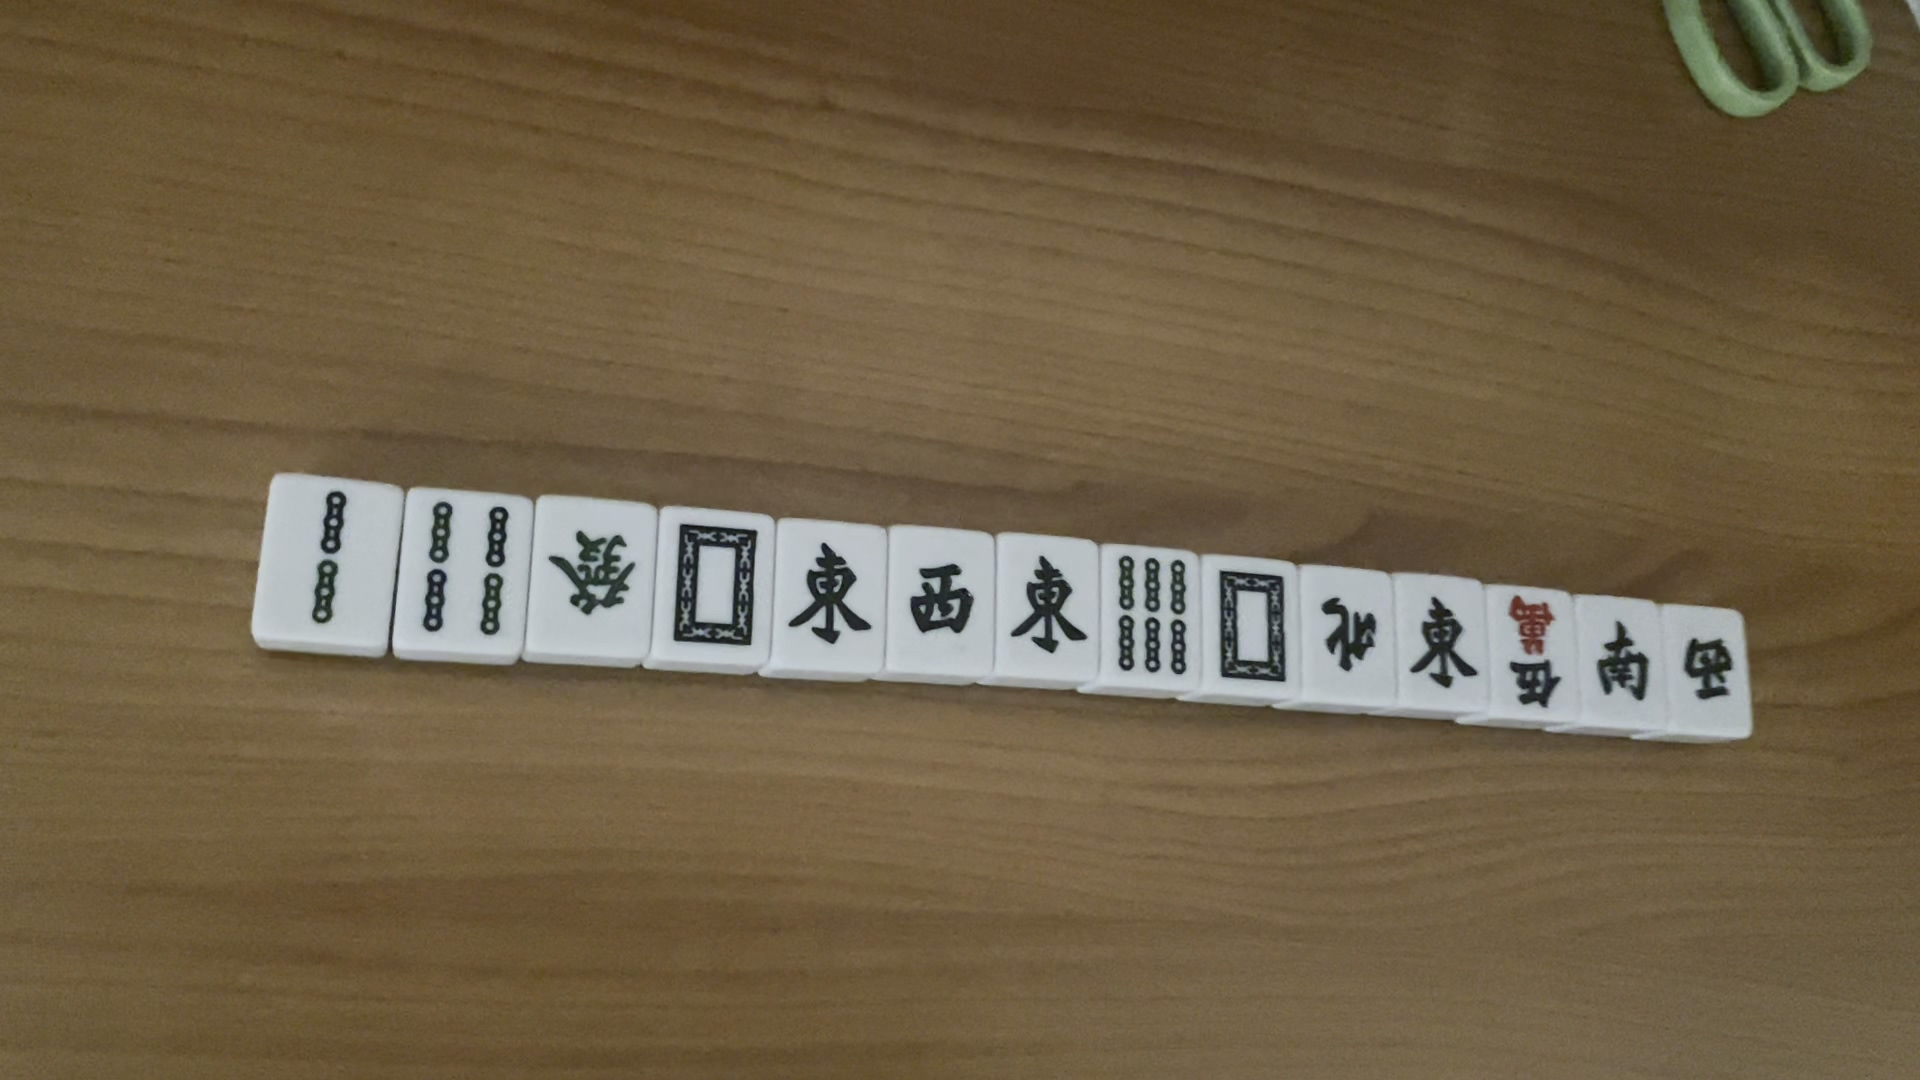b-2: (293, 488, 357, 637)
b-4: (413, 495, 516, 647)
b-6: (1109, 551, 1191, 676)
c-5: (1495, 588, 1564, 713)
honors-east: (778, 535, 868, 651), (1004, 549, 1089, 659), (1407, 588, 1486, 695)
honors-green: (545, 524, 640, 621)
honors-north: (1304, 585, 1381, 679)
honors-south: (1590, 615, 1652, 708)
honors-west: (899, 551, 984, 644), (1677, 625, 1742, 708)
honors-white: (670, 522, 765, 655), (1207, 566, 1291, 683)
